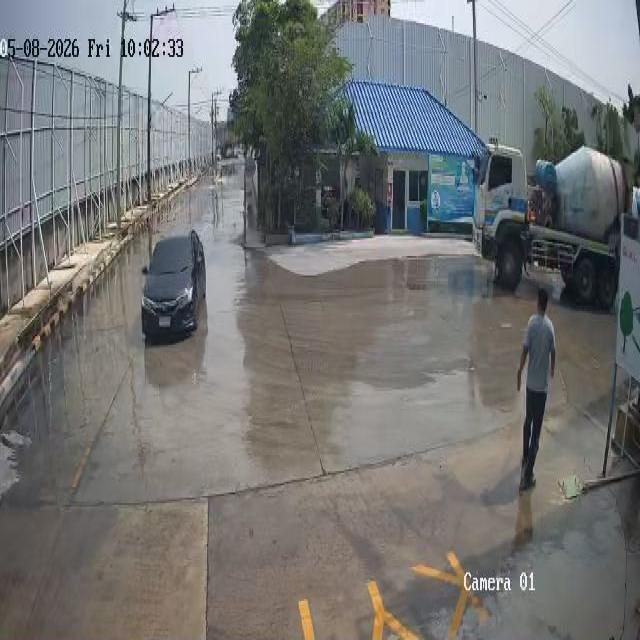cement_mixer_truck: (473, 127, 640, 310)
